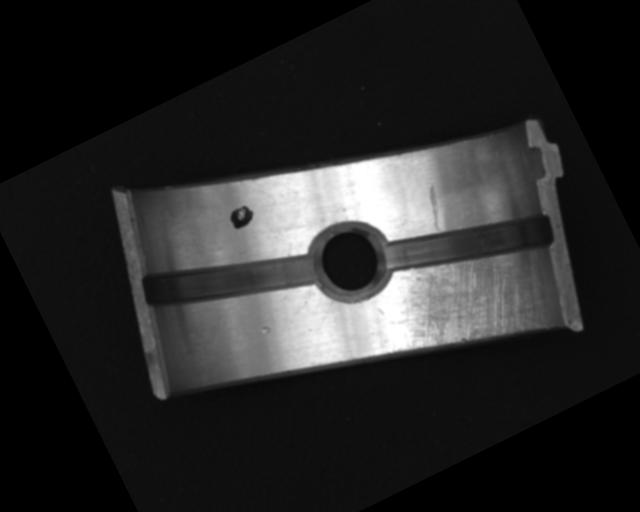blot: (225, 201, 258, 233)
bruise: (259, 322, 272, 337)
gap: (136, 205, 324, 354), (377, 175, 558, 314)
hole: (298, 208, 402, 314)
nick: (416, 183, 454, 235), (309, 297, 345, 331)
scratch: (371, 216, 570, 394)
